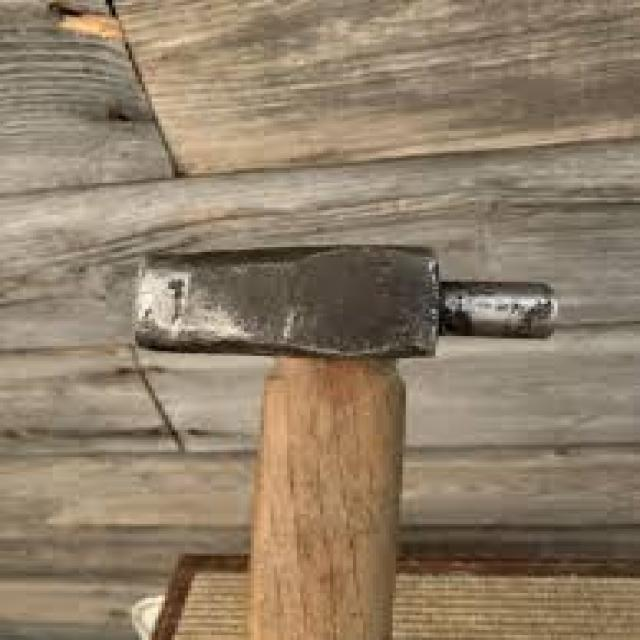hammer: (113, 232, 570, 640)
